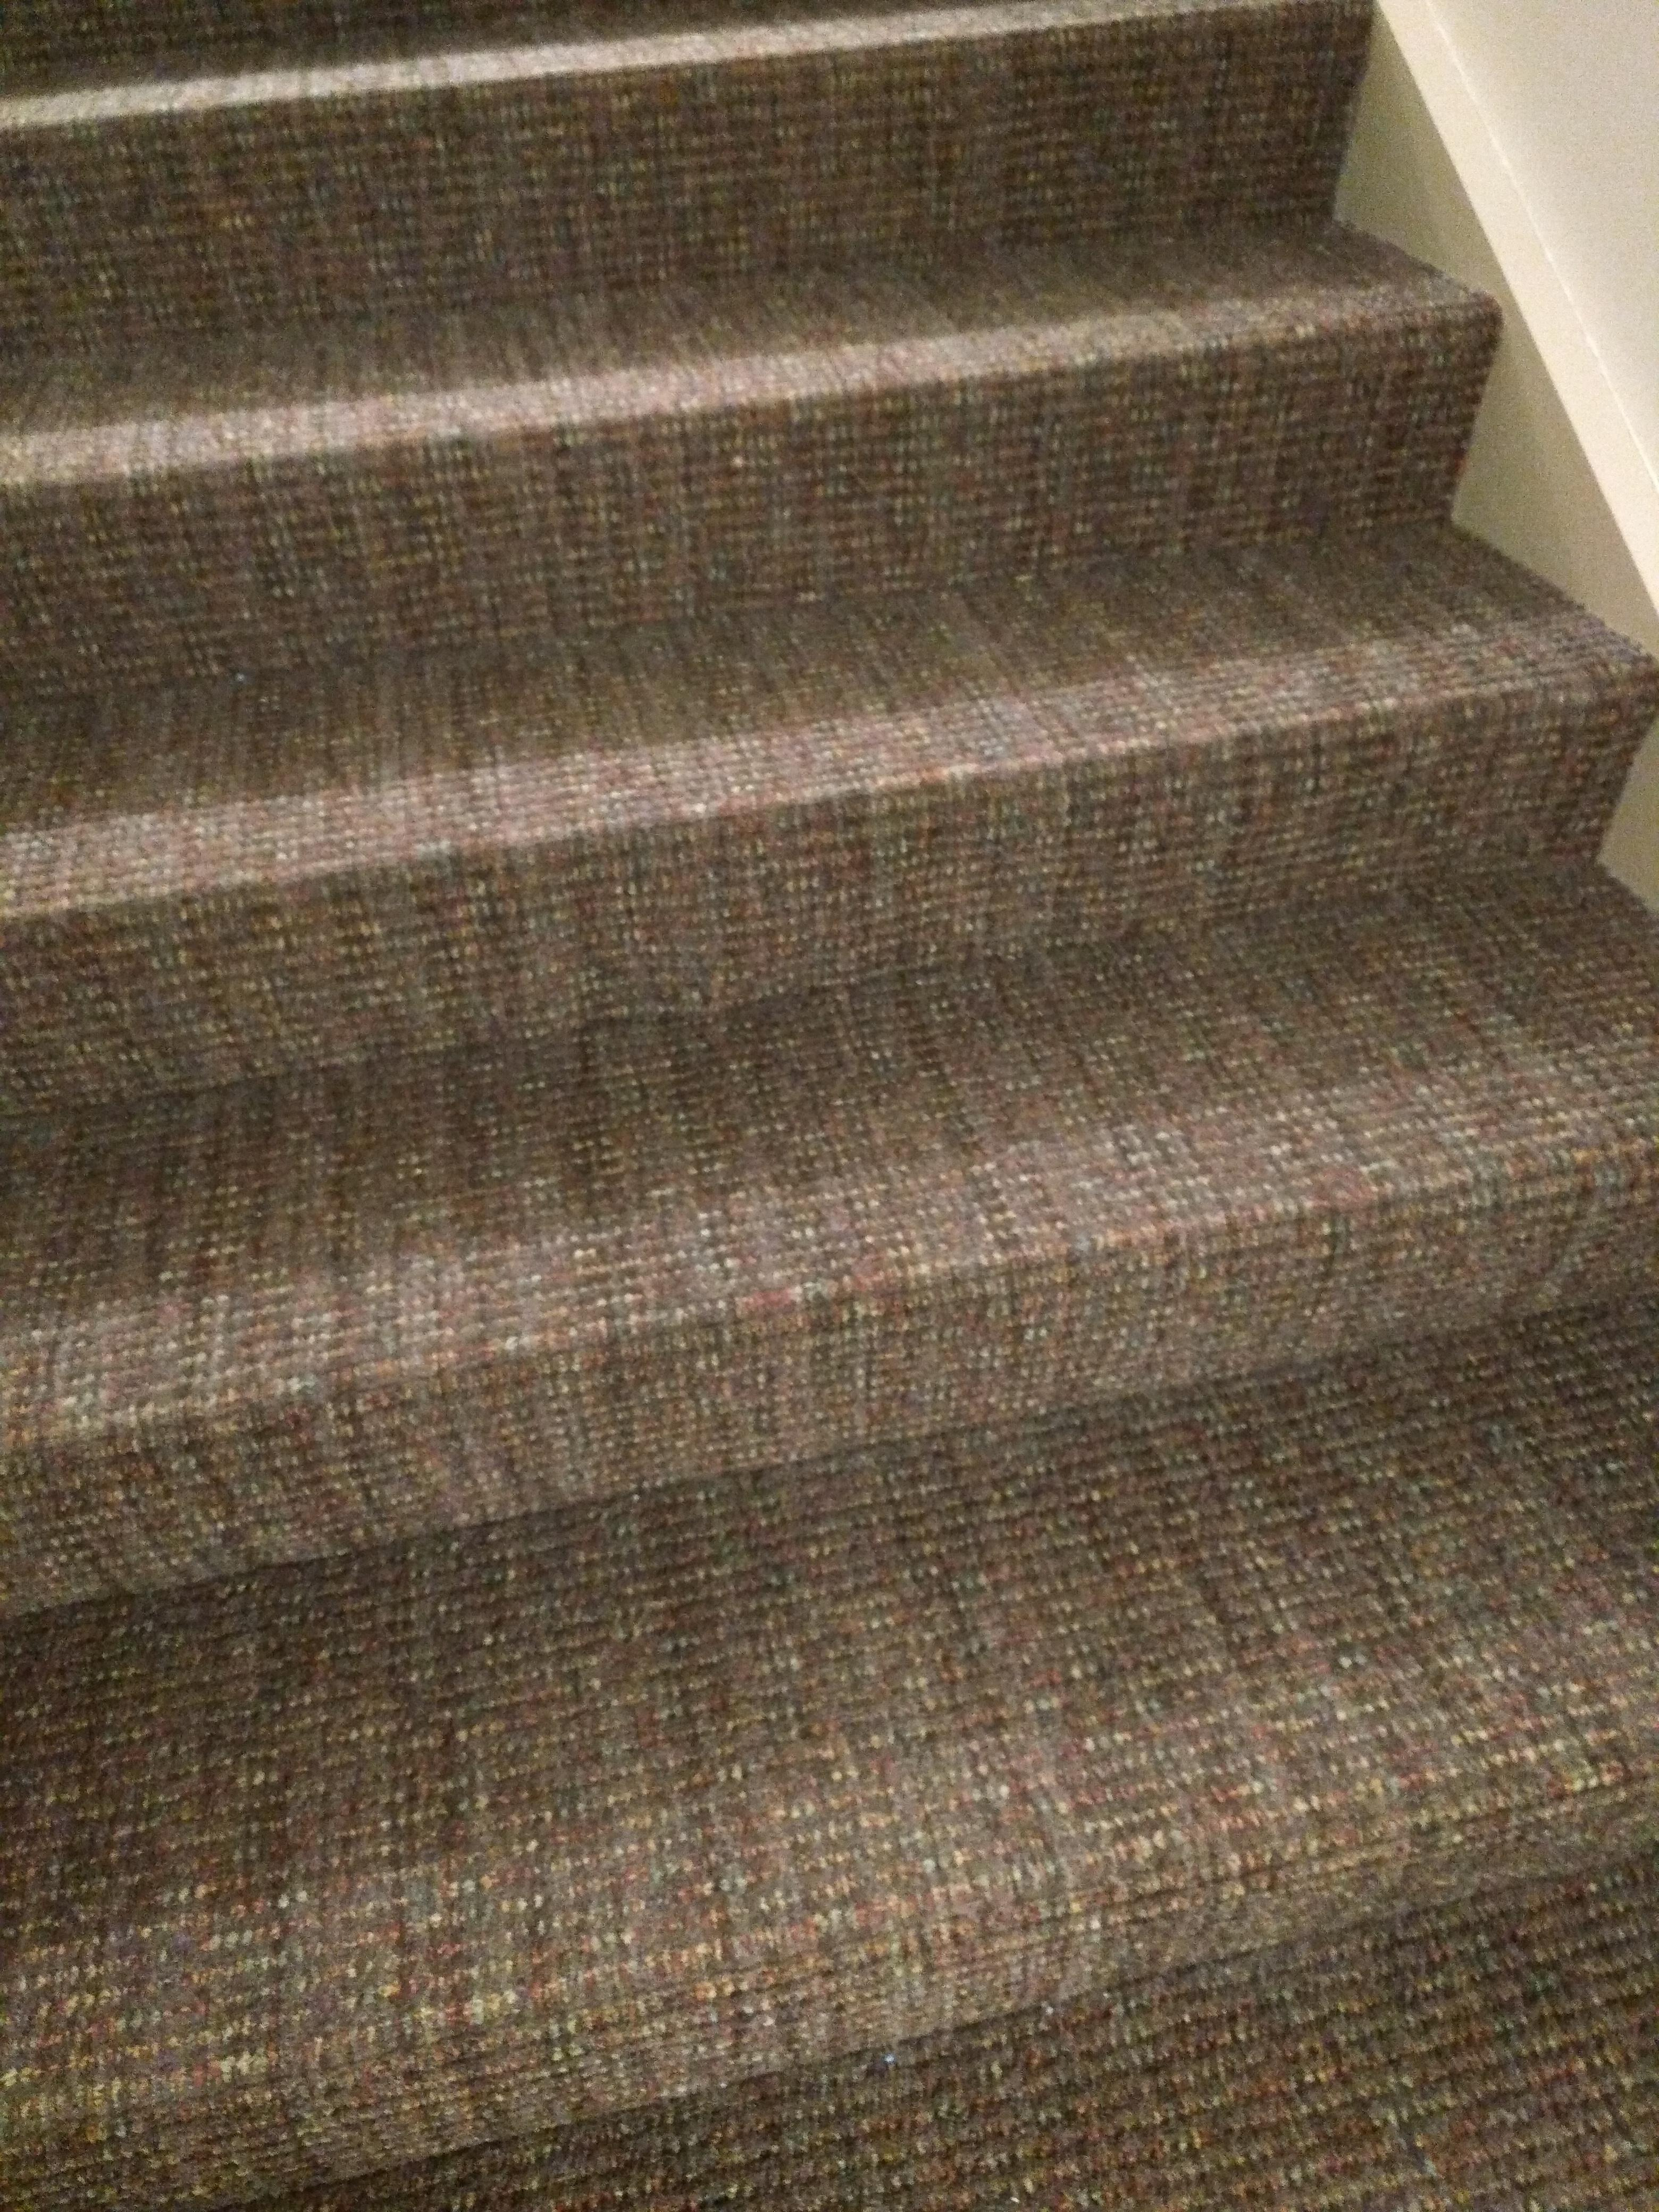stairs_up: (9, 31, 1659, 2196)
